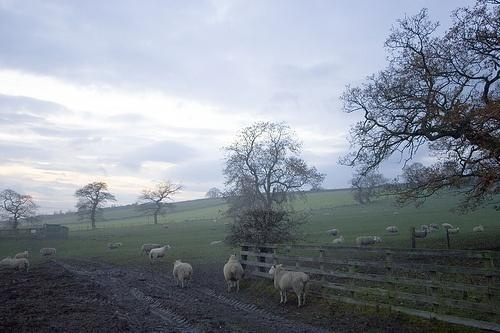sheep: (269, 262, 312, 311), (222, 252, 247, 297), (168, 258, 198, 291), (150, 243, 173, 267), (4, 255, 33, 274), (355, 234, 380, 248), (38, 246, 61, 261), (414, 228, 431, 242), (15, 248, 31, 262), (107, 240, 124, 253), (472, 223, 486, 237), (447, 227, 463, 238), (143, 245, 160, 255), (386, 225, 400, 237), (325, 227, 339, 238)
